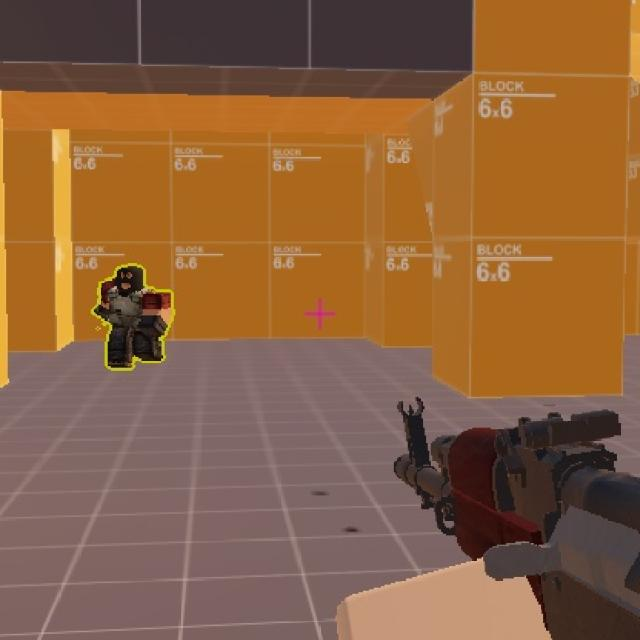player: (92, 257, 169, 369)
